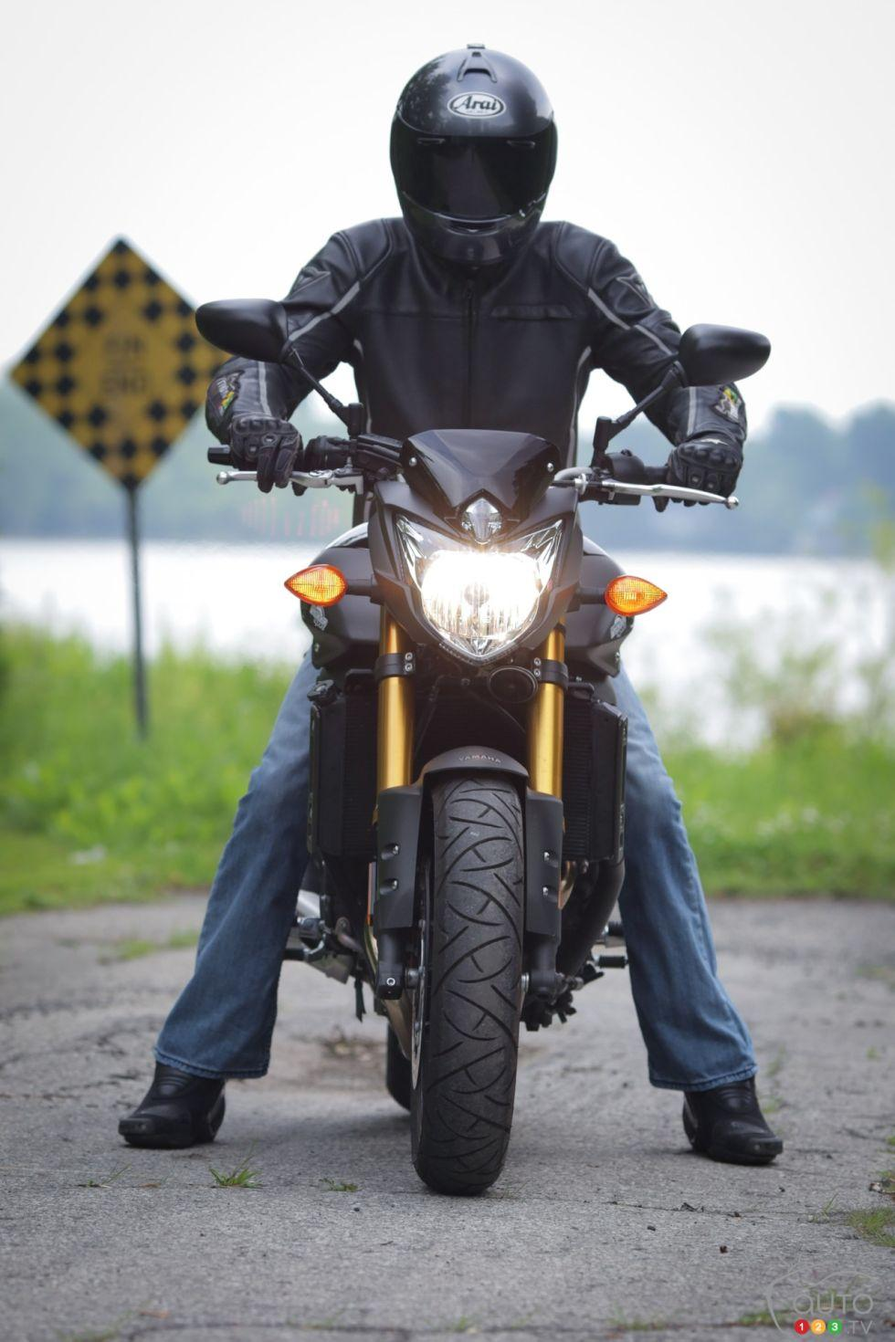helmet: (389, 46, 559, 268)
